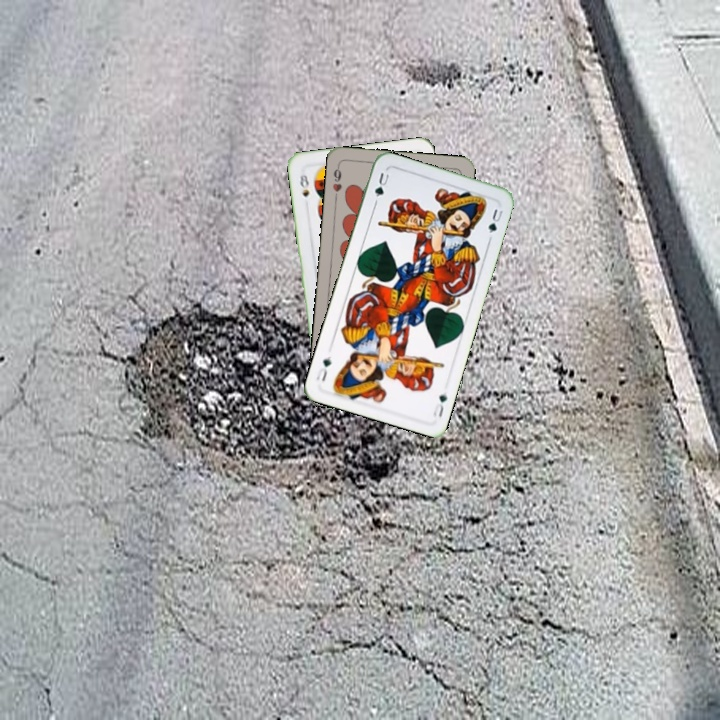GU: (370, 169, 392, 200), (429, 390, 450, 420)
H9: (328, 161, 344, 202)
S8: (296, 170, 312, 199)
